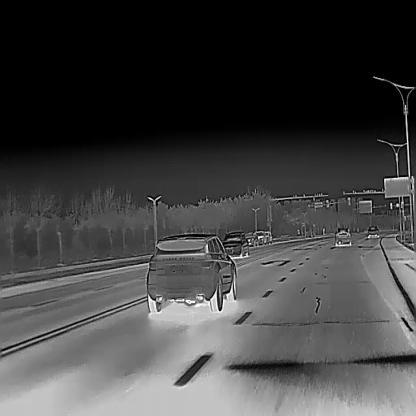car: (146, 232, 237, 311), (221, 229, 249, 258), (333, 226, 351, 245), (253, 229, 266, 245), (244, 232, 258, 246), (367, 223, 379, 238), (263, 230, 272, 244)
